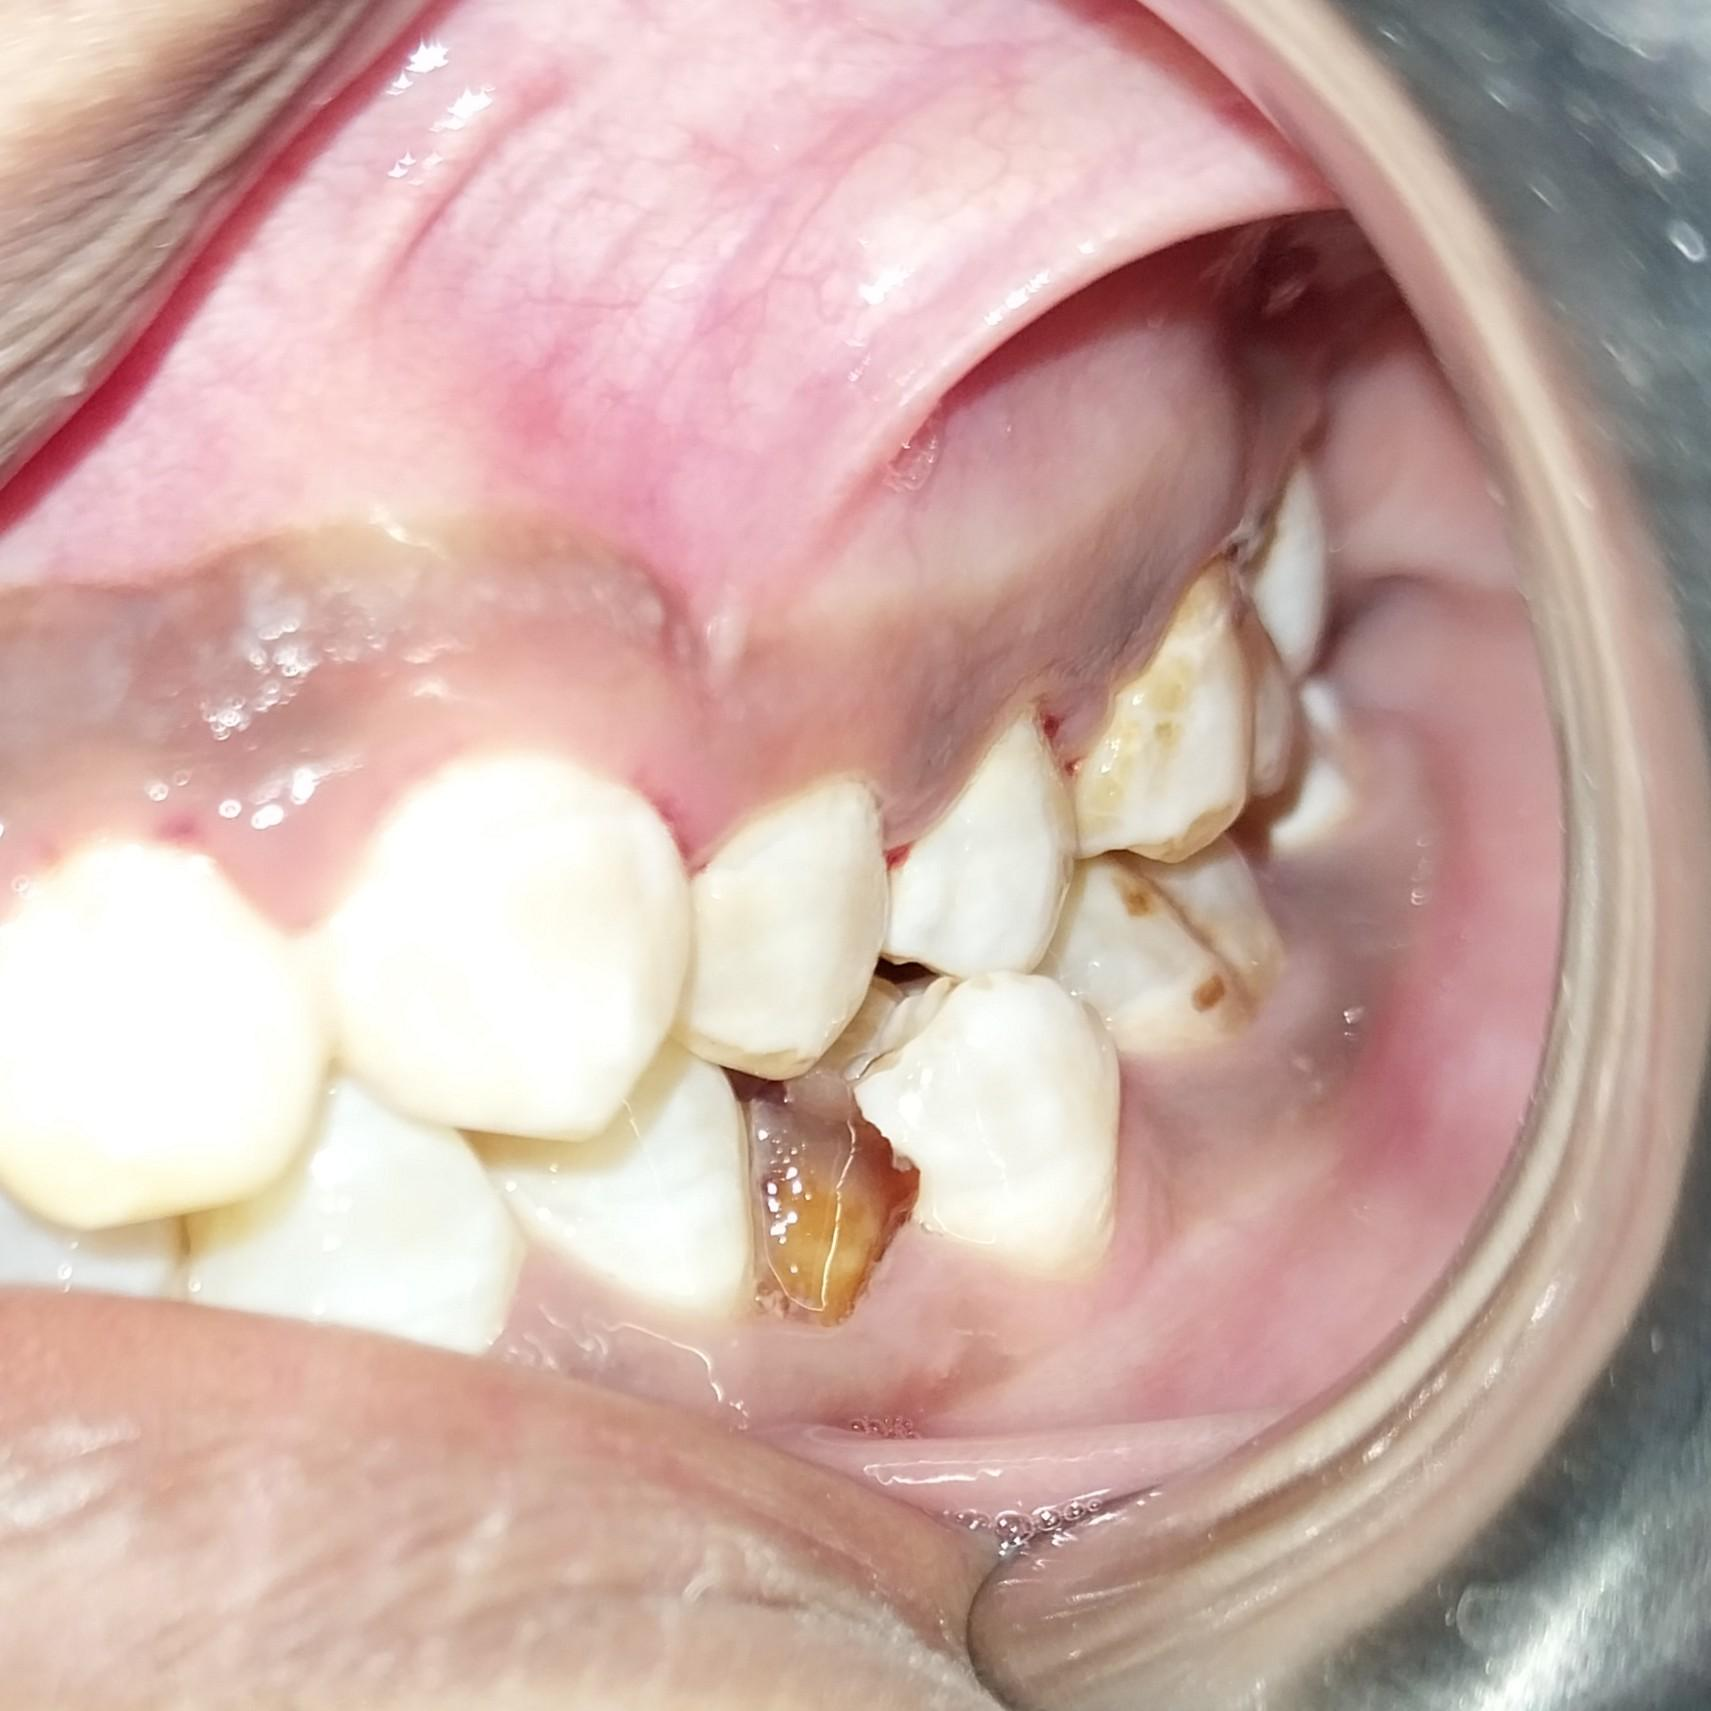d: (731, 1064, 931, 1340)
